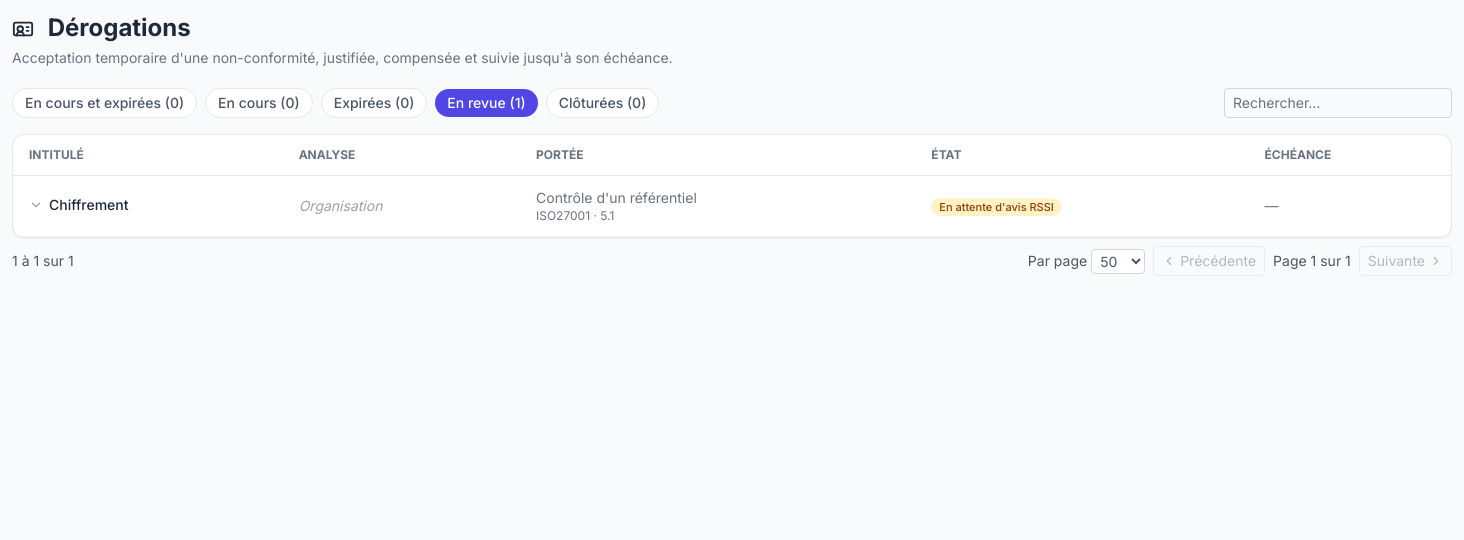
DerogationsRegistre — actions en place › le demandeur voit « Modifier / Retirer » ; après retrait la ligne reste ouverte, statut et confirmation visibles, sans rechargement
Expected: the button "En revue (1)" is shown, [435, 89, 538, 117]
Click the text "Chiffrement": (79, 205) [29, 195, 128, 215]
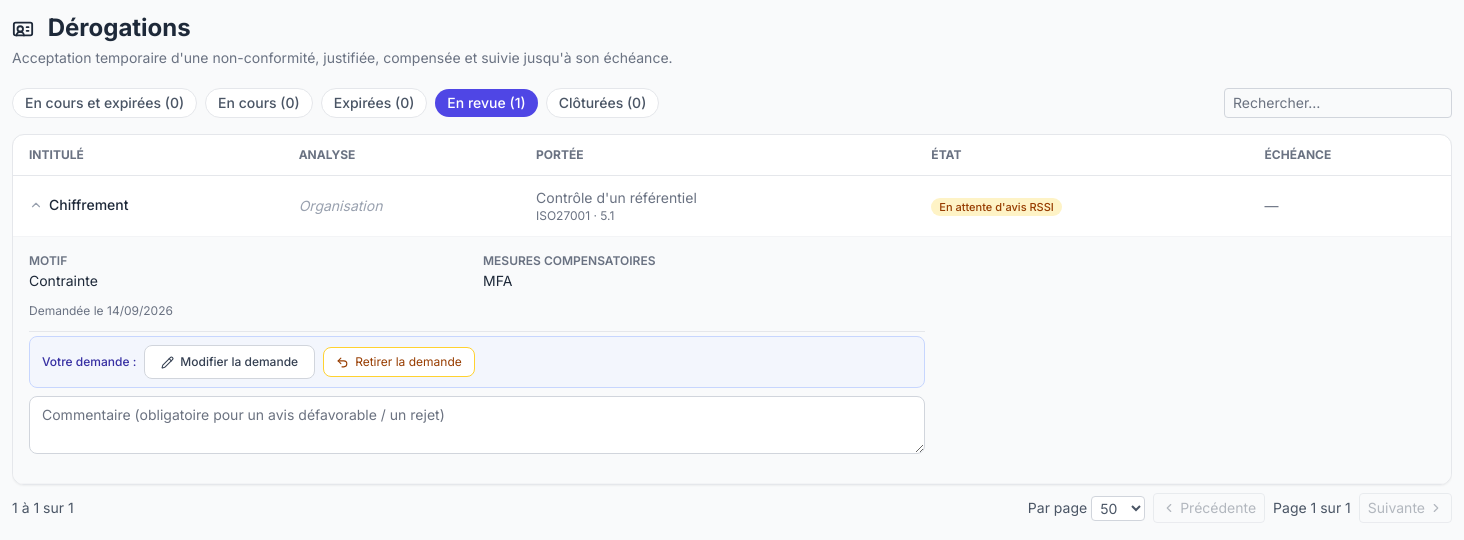
Result: the text "Votre demande :" is shown at [42, 354, 136, 370]
Result: the button "Modifier la demande" is shown at [144, 345, 315, 379]
Click the button "Retirer la demande": (399, 362) [323, 347, 475, 377]
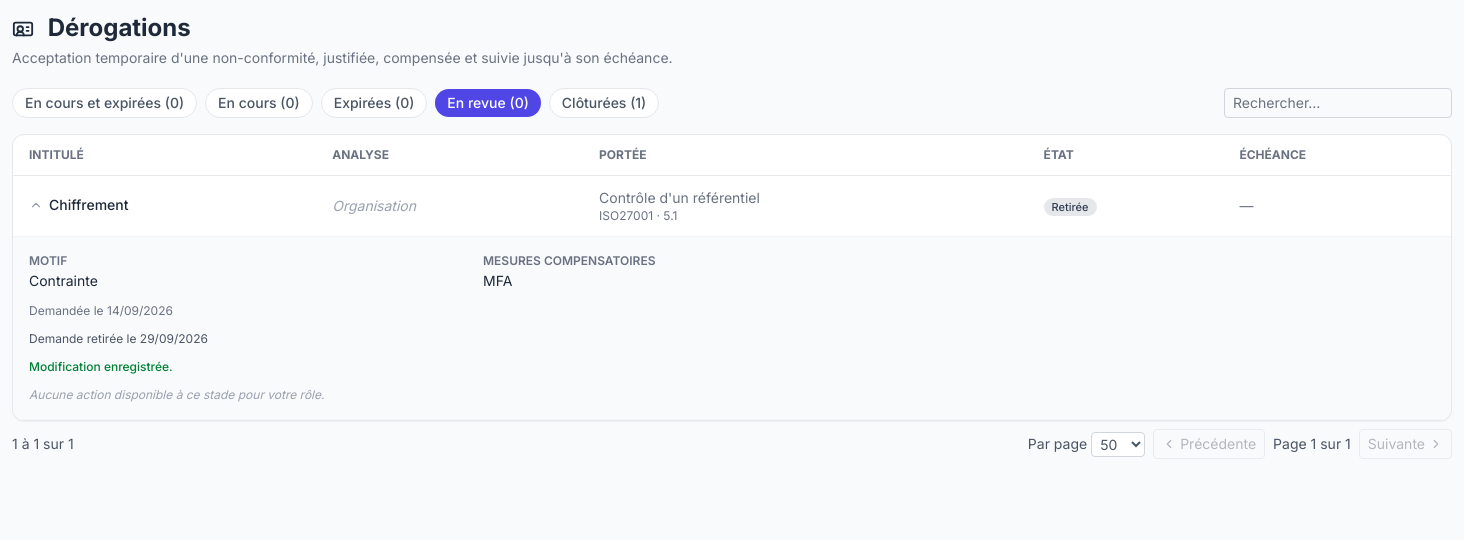
Result: the text "Contrainte" is shown at [29, 272, 98, 289]
Result: the text "Modification enregistrée." is shown at [29, 359, 173, 374]
Result: the text "Retirée" is shown at [1044, 198, 1096, 216]
